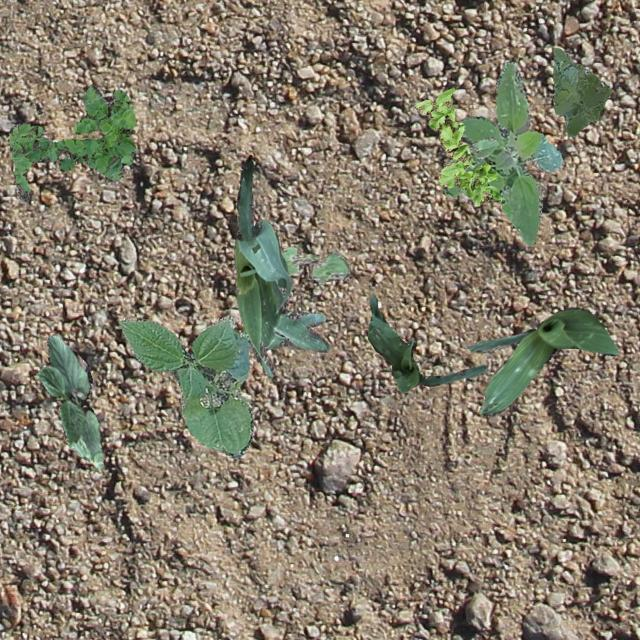crop: (232, 154, 328, 376), (118, 314, 252, 458), (467, 306, 619, 414), (366, 294, 486, 392), (36, 334, 102, 468), (280, 246, 348, 282), (468, 136, 498, 158)
weed: (442, 59, 562, 246), (8, 82, 136, 198), (414, 86, 501, 206), (553, 48, 611, 136)
